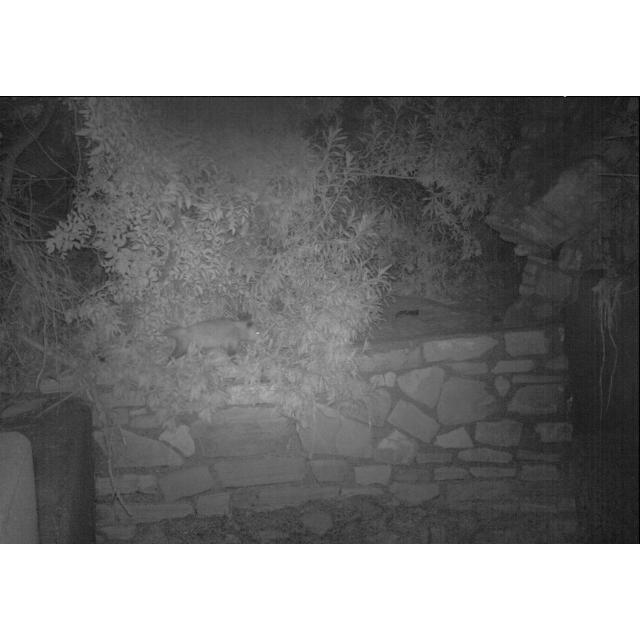animals: (158, 313, 266, 363)
